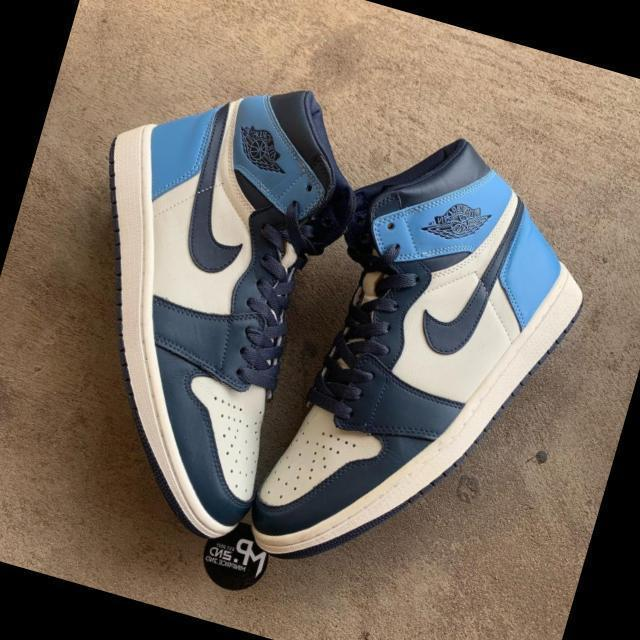nike original jordan 1: (231, 98, 620, 618), (10, 53, 372, 554)
